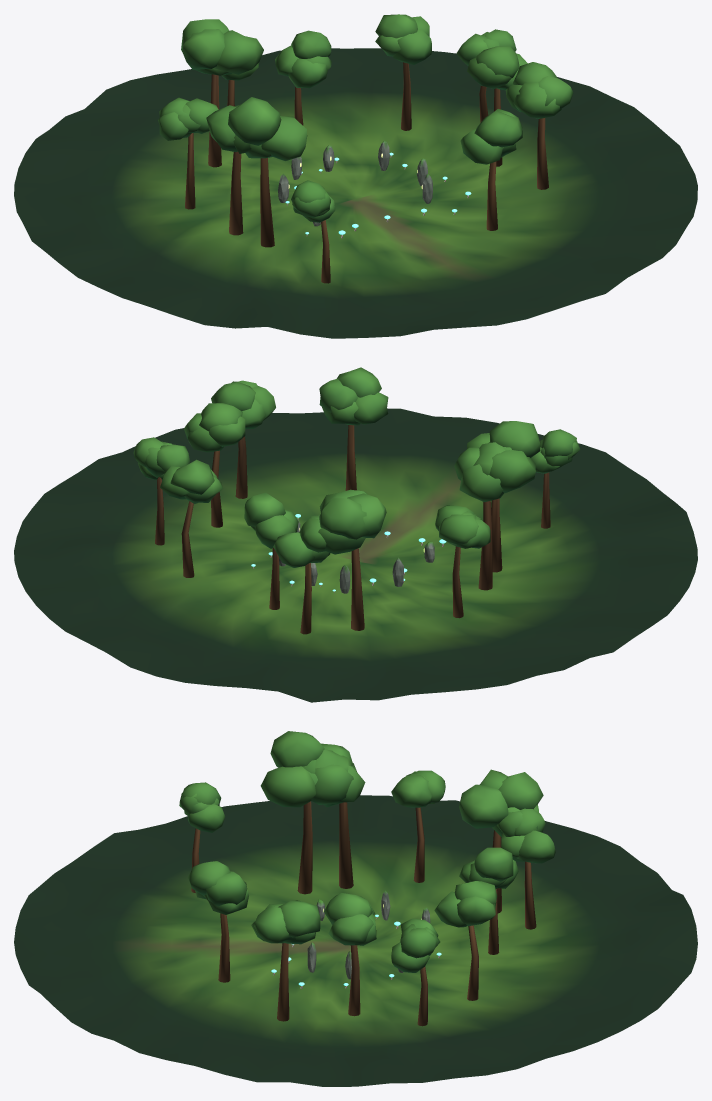
File: arena-forest.3a876443bf.glb
3 renders of one model, top to bottom at view 1: azimuth 30°, elevation 25°; view 2: azimuth 150°, elevation 25°; view 3: azimuth 270°, elevation 25°, orthographic.
Visible parts, largest first — view 1: Arena; view 2: Arena; view 3: Arena.
Part boxes in pixels (x1=…): Arena: x1=14, y1=14, x2=697, y2=338; Arena: x1=14, y1=367, x2=697, y2=702; Arena: x1=14, y1=731, x2=697, y2=1086.
Bounding box in the file's own units: 44 × 10.97 × 44.
